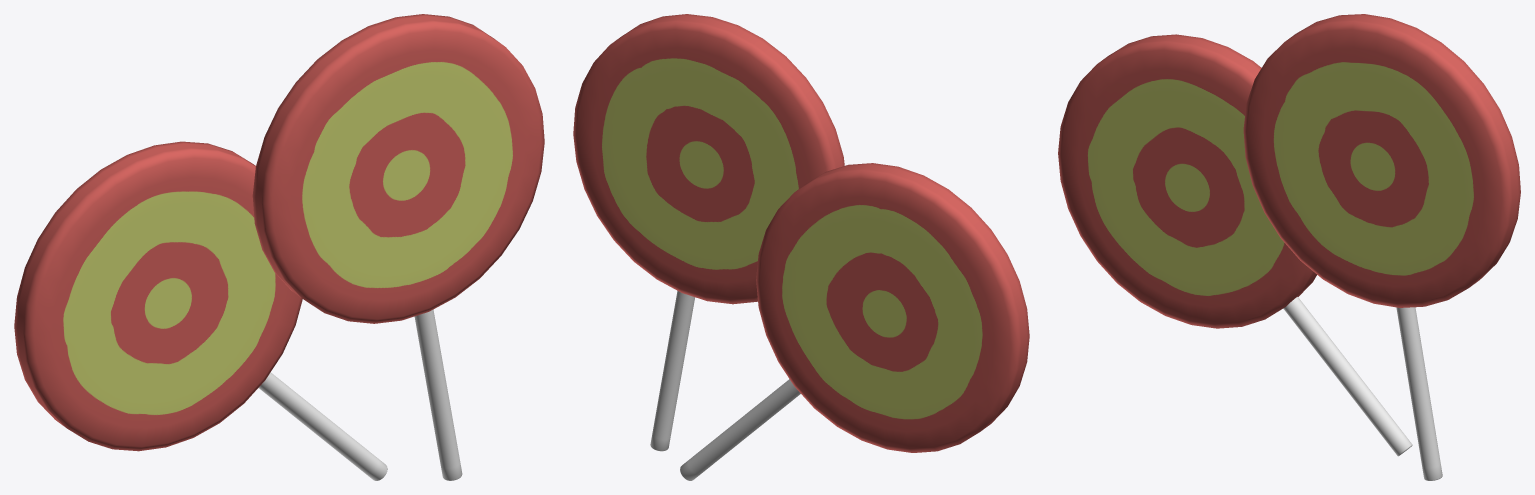
3 renders of one model, left to right at view 1: azimuth 30°, elevation 25°; view 2: azimuth 150°, elevation 25°; view 3: azimuth 330°, elevation 25°, orthographic. The views are drawn at different scales.
Visible parts, largest first — view 1: Cylinder005; view 2: Cylinder005; view 3: Cylinder005.
Boxes of the visible parts, bbox=[...] form: Cylinder005: bbox=[14, 14, 544, 480]; Cylinder005: bbox=[573, 14, 1029, 480]; Cylinder005: bbox=[1058, 14, 1520, 480].
Size of the model in its own units: 31.72 by 28.84 by 4.35.
Materials: 1 (1 with a texture image).
